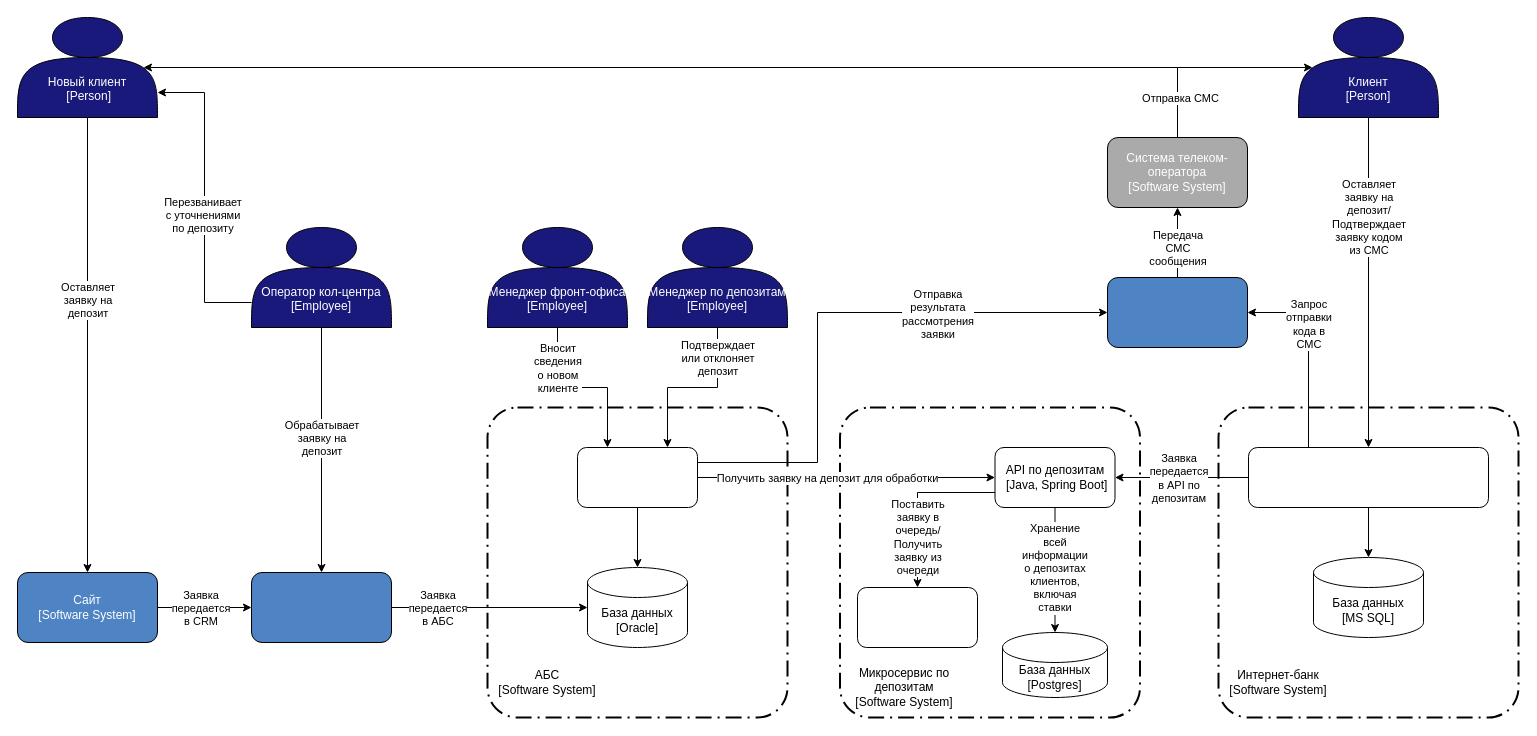
Some shapes in this 1537 by 736 pixel diagram are drawn without their labels. Each missing label, with the centre of its shape:
CRM [Software System]: point 321,607
Desktop-клиент [Delphi]: point 637,477
Веб-приложение [ASP.NET MVC 4.5, .NET Framework 4.5]: point 1368,477
Очередь заявок по депозитам [Kafka]: point 917,617
СМС-шлюз [Software System]: point 1177,312
